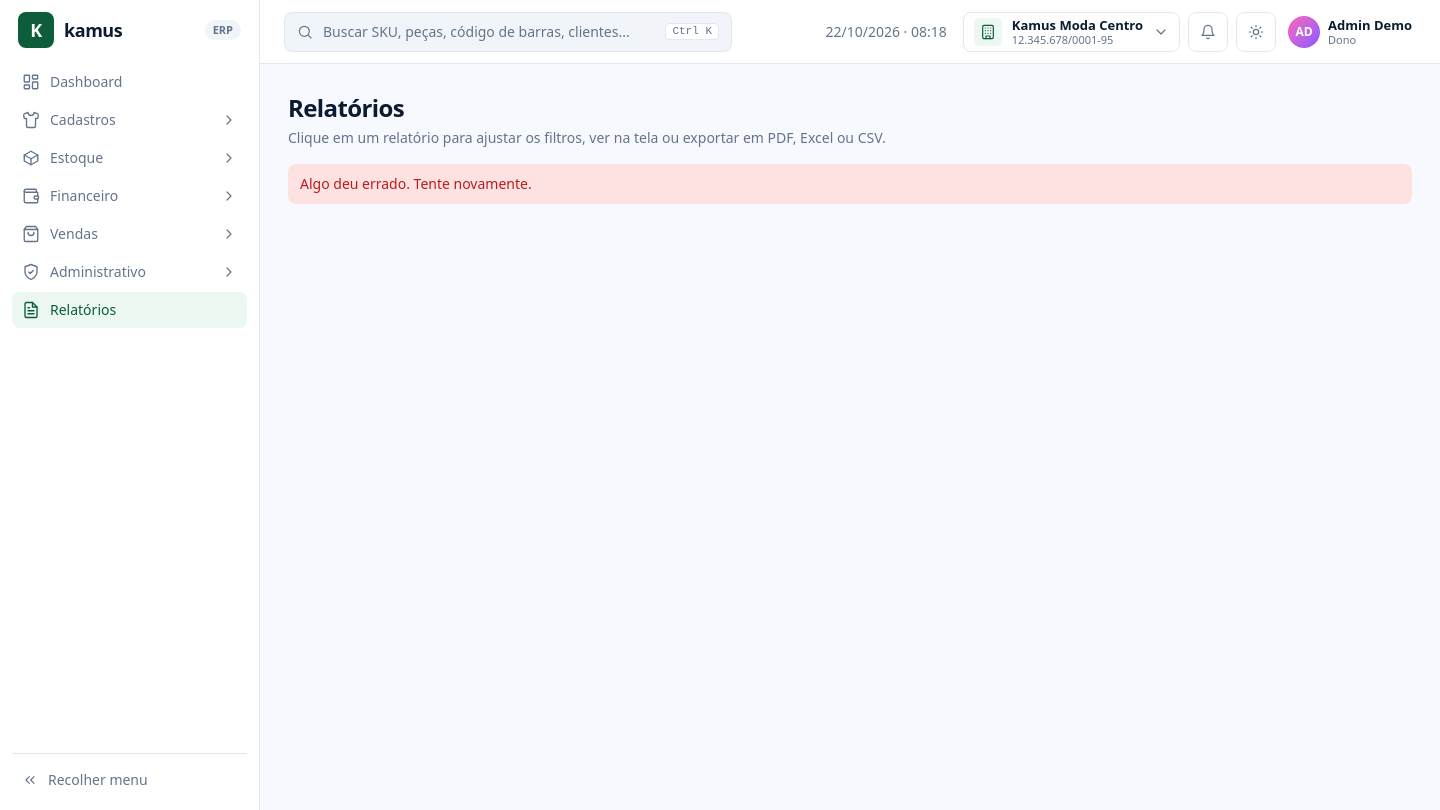
Scenario: Shell › clicar no logo "kamus" do menu lateral volta ao dashboard
Expected: the heading "Relatórios" is shown, [288,91,404,124]
Click the link with aria-label "kamus — ir para o dashboard".
click(70, 30)  # box [18,12,122,48]
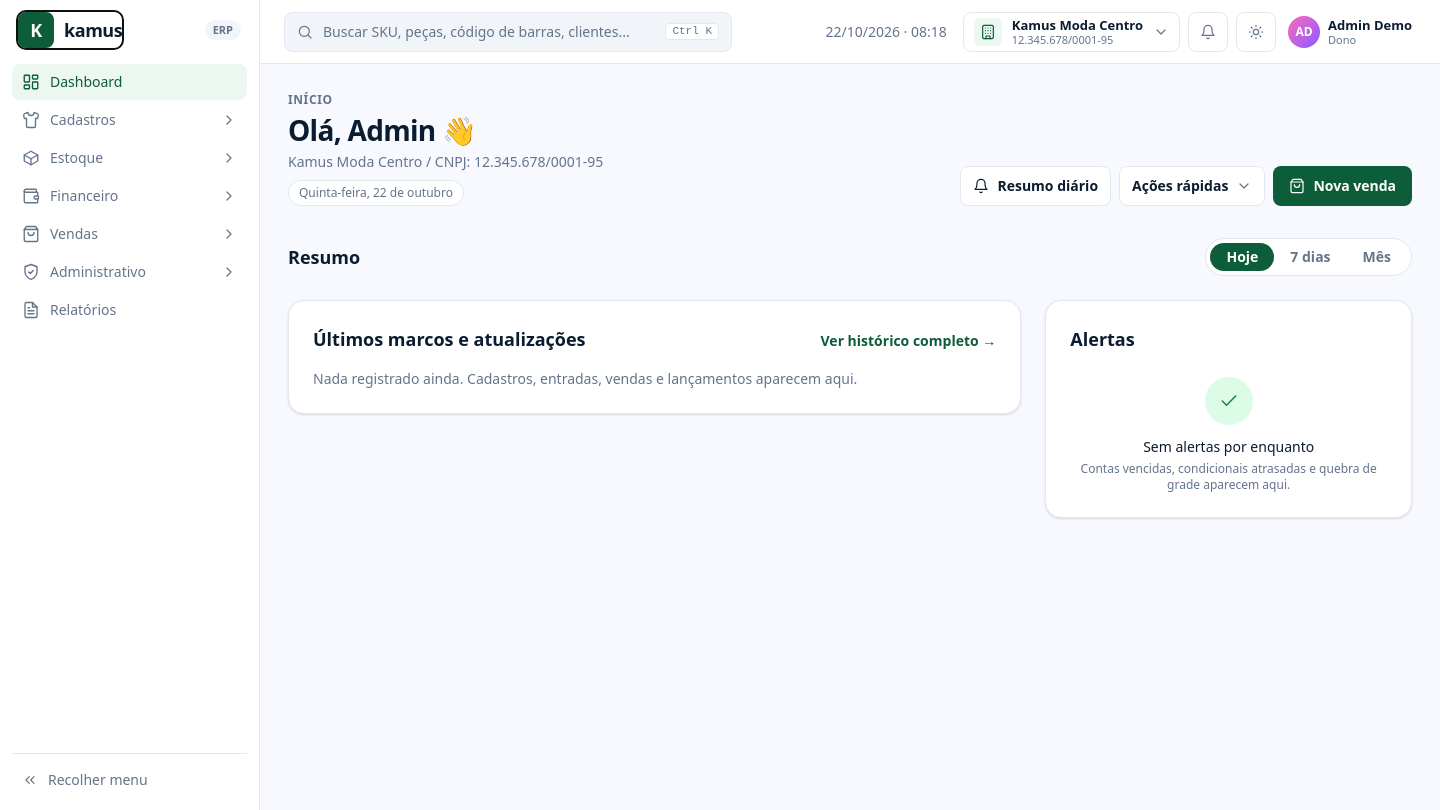
Expected: the heading "Olá, Admin 👋" is shown, [288,111,476,149]
